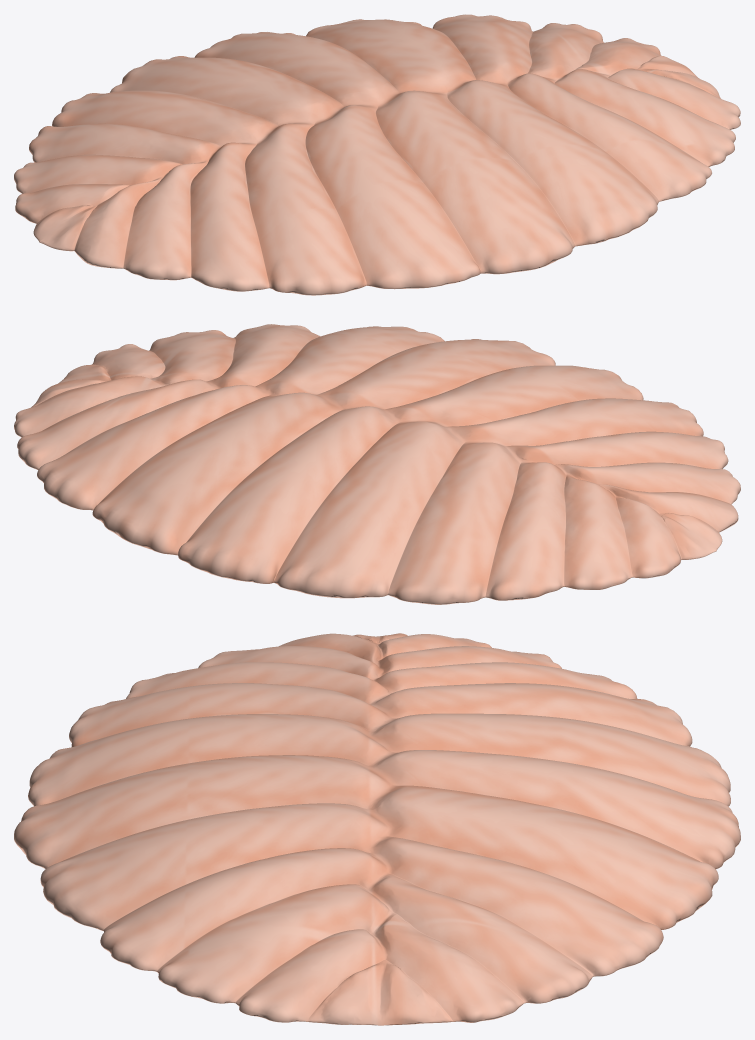
3 views of the same model, one above another, from view 1: azimuth 30°, elevation 25°; view 2: azimuth 150°, elevation 25°; view 3: azimuth 270°, elevation 25° (orthographic). The views are drawn at different scales.
Parts seen in each view (by area): view 1: Object_2; view 2: Object_2; view 3: Object_2.
Boxes of the visible parts, box(x1,y1,x2,y2) form: Object_2: box(14, 14, 740, 295); Object_2: box(14, 324, 740, 604); Object_2: box(14, 633, 740, 1025).
Size of the model in its own units: 3.93 by 0.3873 by 3.12.
1 material, 1 textured.
